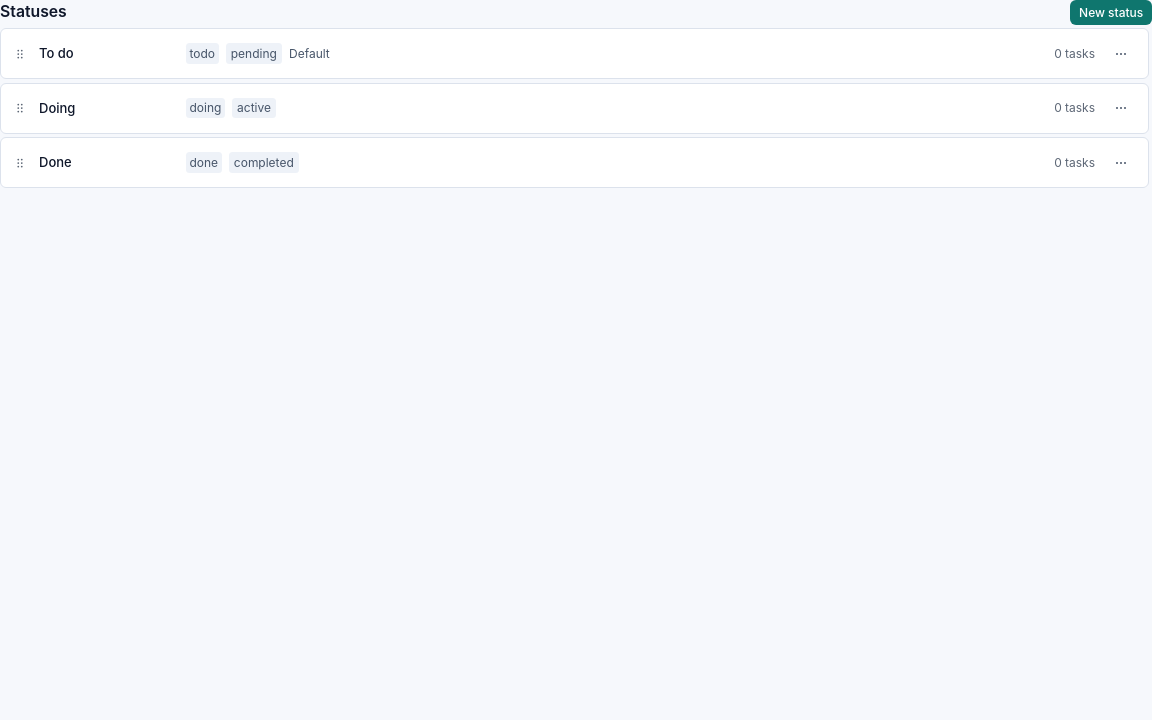
it: EnumCollectionPanel — edit-model (SET-28, SET-51) › a failed Edit-dialog Save stays open with the error anchored in the dialog
Expected: the element with test id "statuses-list" is shown, [0,28,1151,188]
Click the button named "Actions for status \"Doing\"" at (1121, 108), box [1102,89,1140,127]
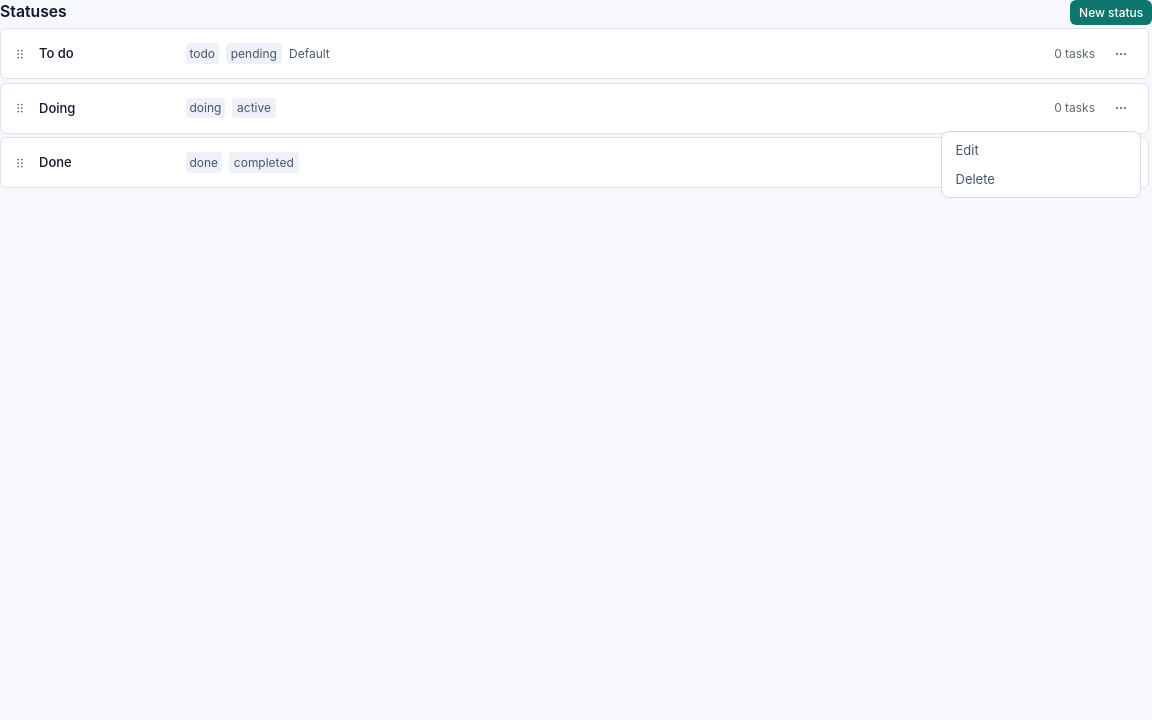
Click the menu item with test id "statuses-edit-doing" at (1040, 150), box [945,136,1136,165]
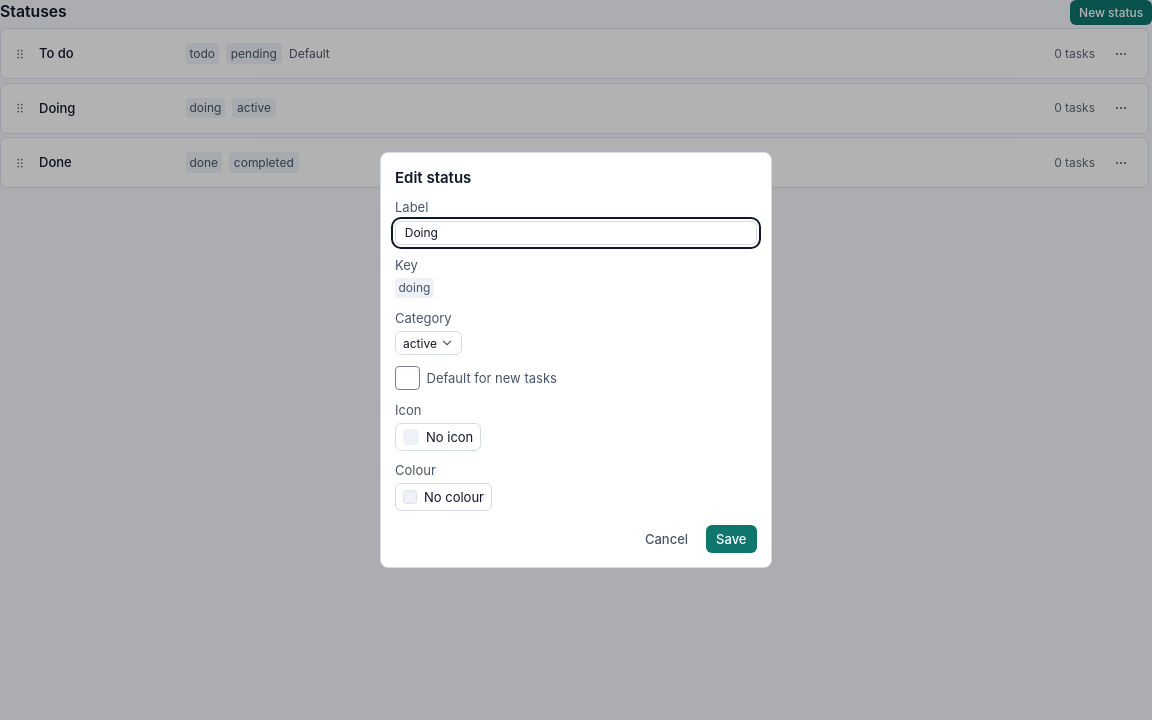
Replace the text in the field with test id "statuses-entry-label" with "In progress" at (576, 233), box [395,220,757,245]
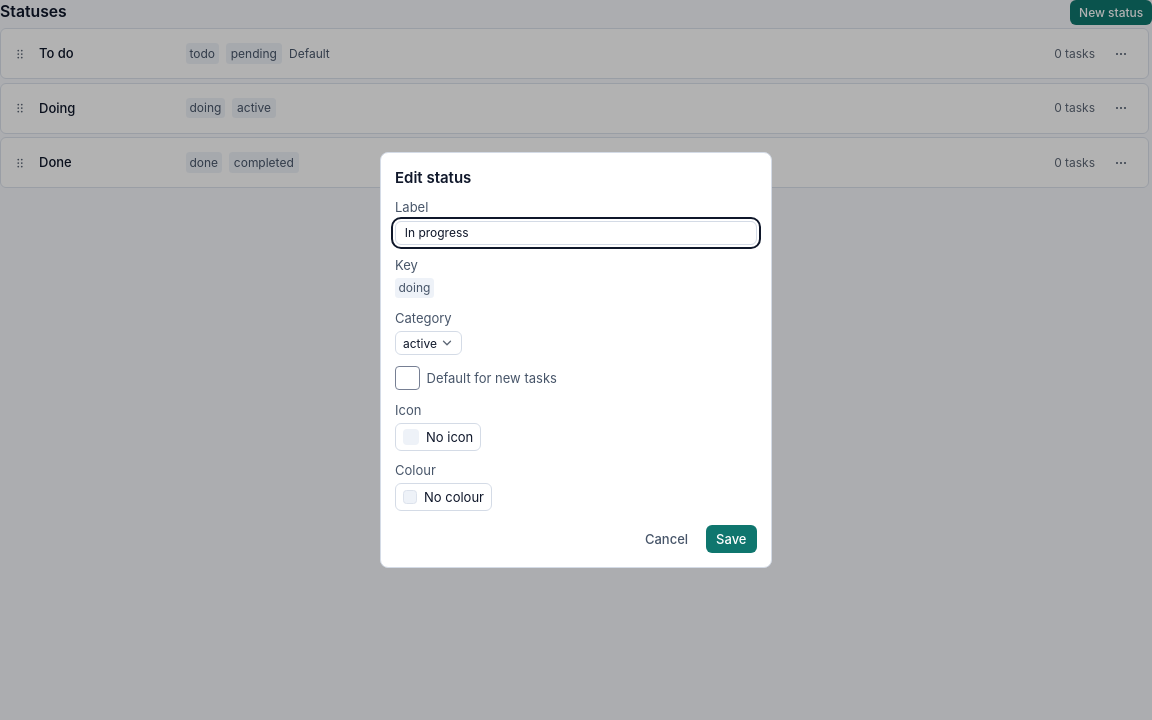
Click the button with test id "statuses-entry-save" at (731, 540), box [706,526,757,554]
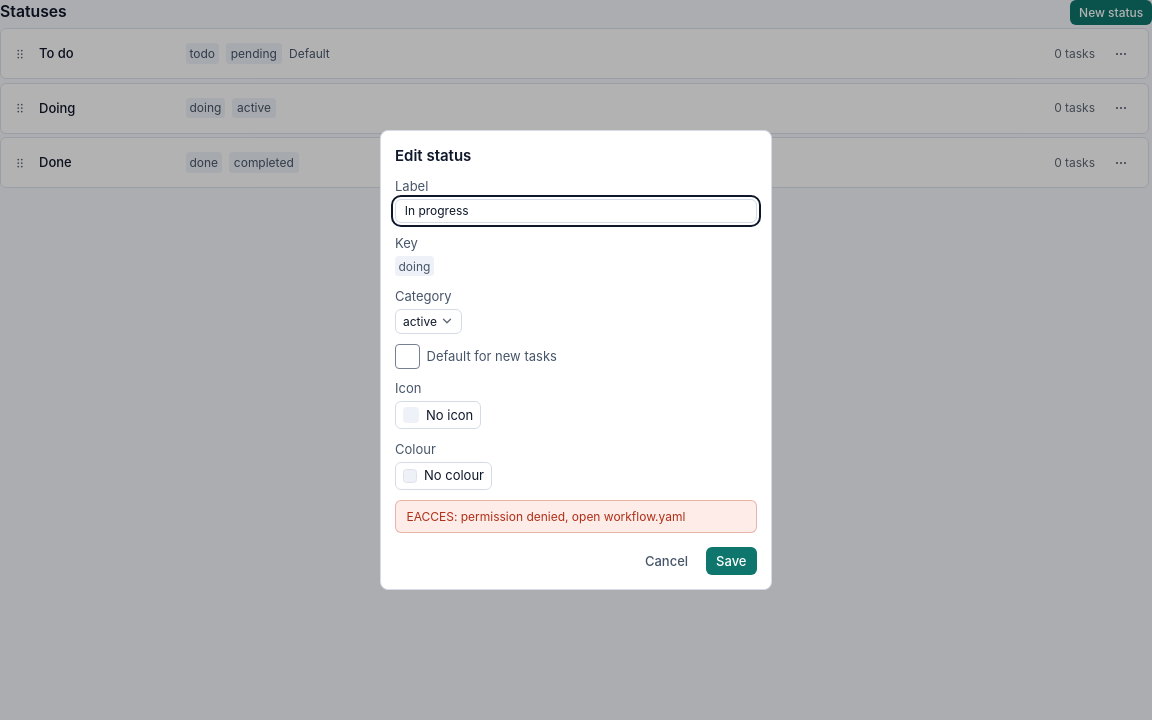
Result: the element with test id "statuses-entry-dialog" is shown at [395,177,757,575]
Result: the message with test id "statuses-entry-error" reads "EACCES: permission denied, open workflow.yaml" at [406,509,685,524]
